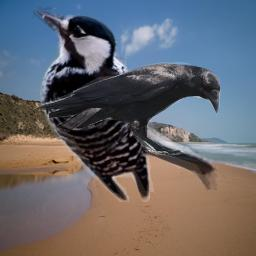Crow: (33, 62, 221, 155)
Woodpecker: (33, 7, 218, 202)
